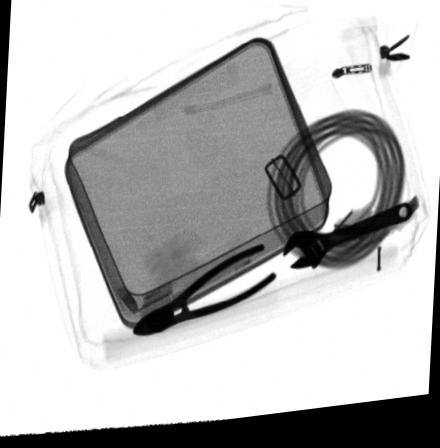Pliers: (131, 248, 281, 339)
Wrench: (281, 211, 412, 279)
